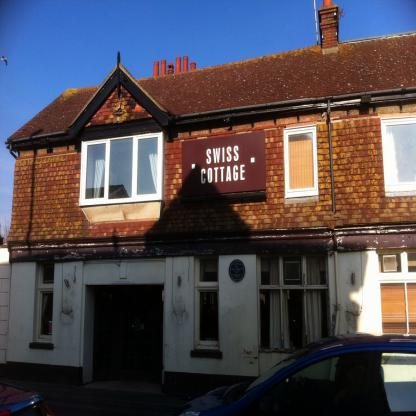Car: (174, 334, 415, 415), (0, 380, 54, 415)
